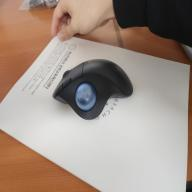mouse: (53, 58, 133, 120)
